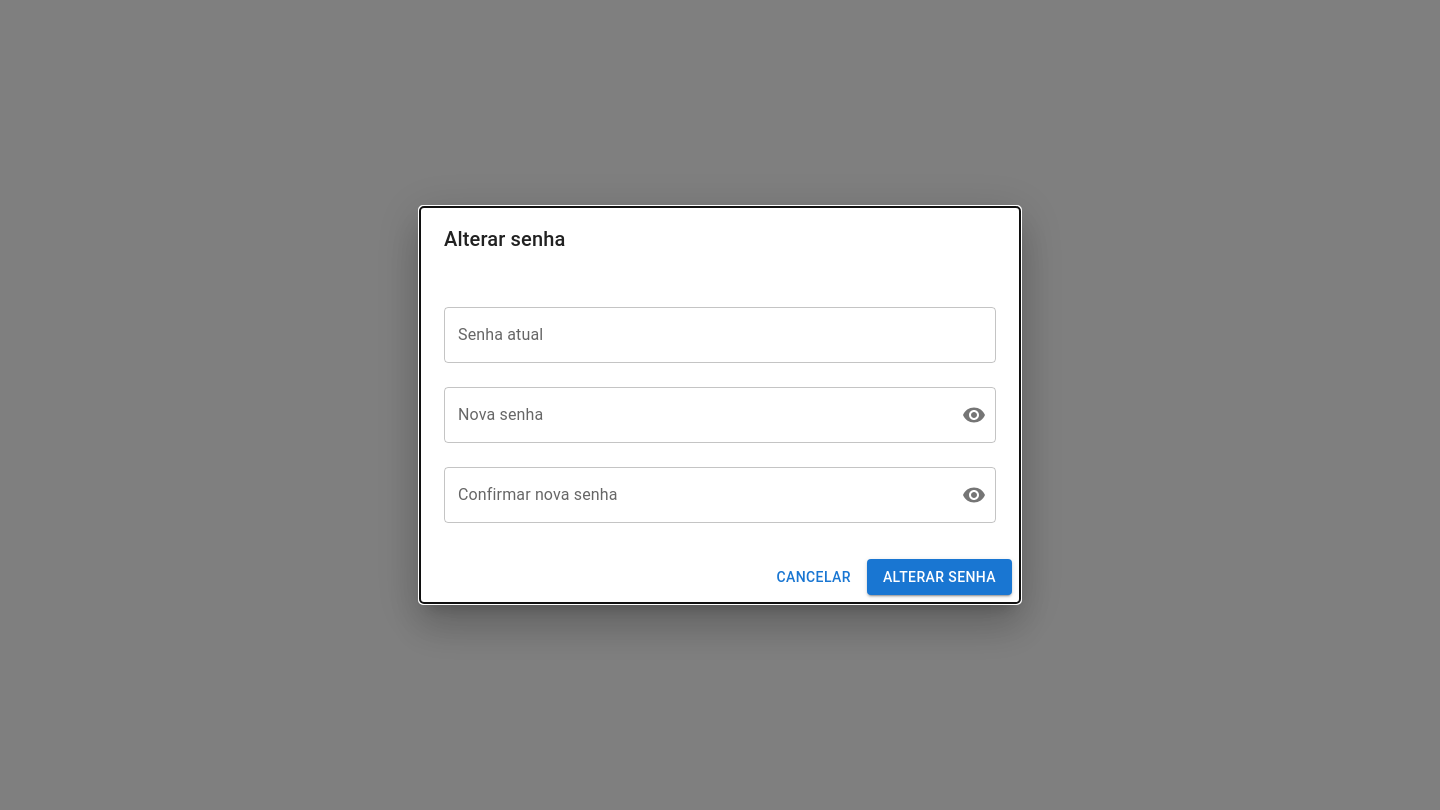
Test: AlterarSenhaDialog › shows generic error for non-400 failures
Type "oldpass" into the password field labelled "Senha atual" at point(720, 335), box [444,307,996,363]
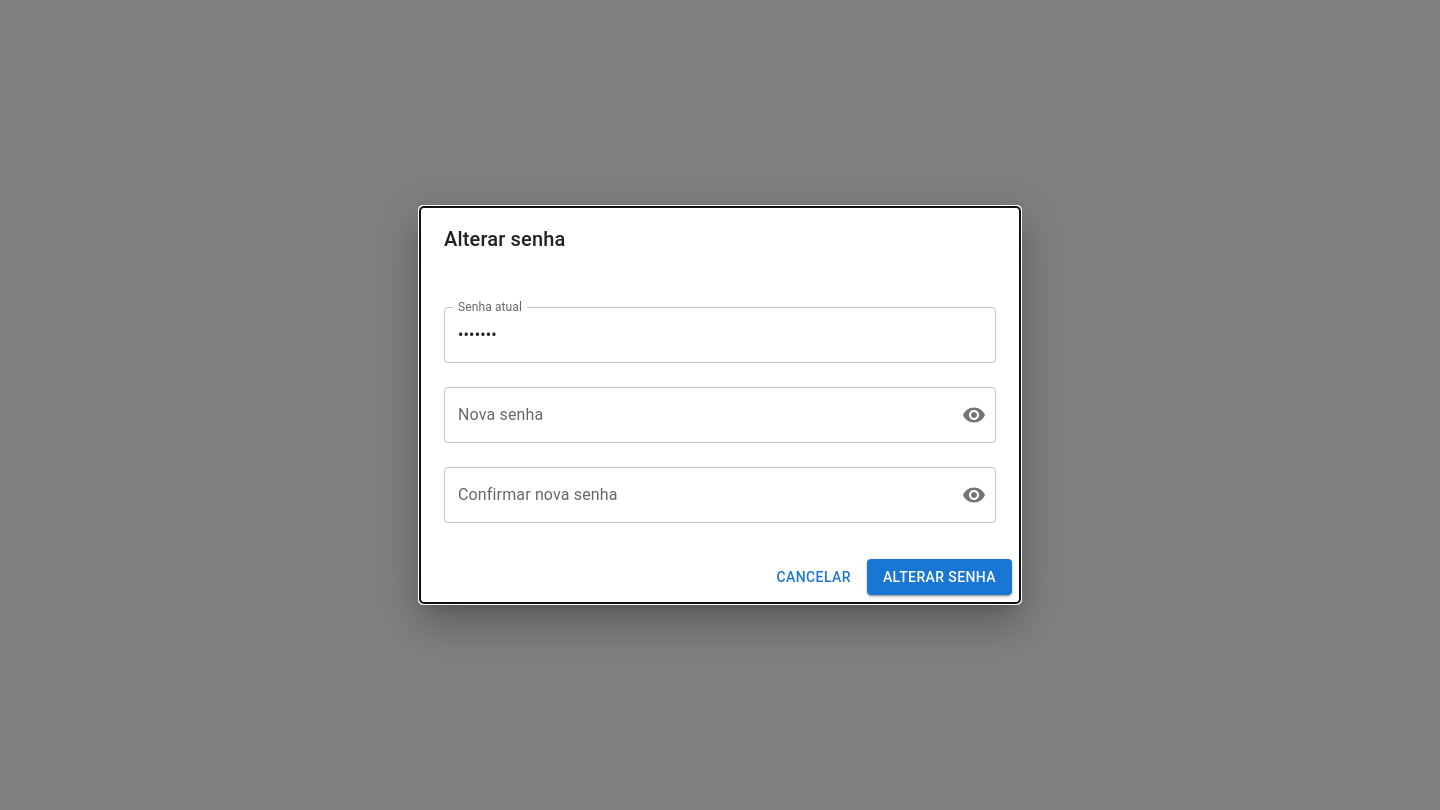
Type "secret1" into the password field labelled "Nova senha" at point(695, 415), box [444,387,946,443]
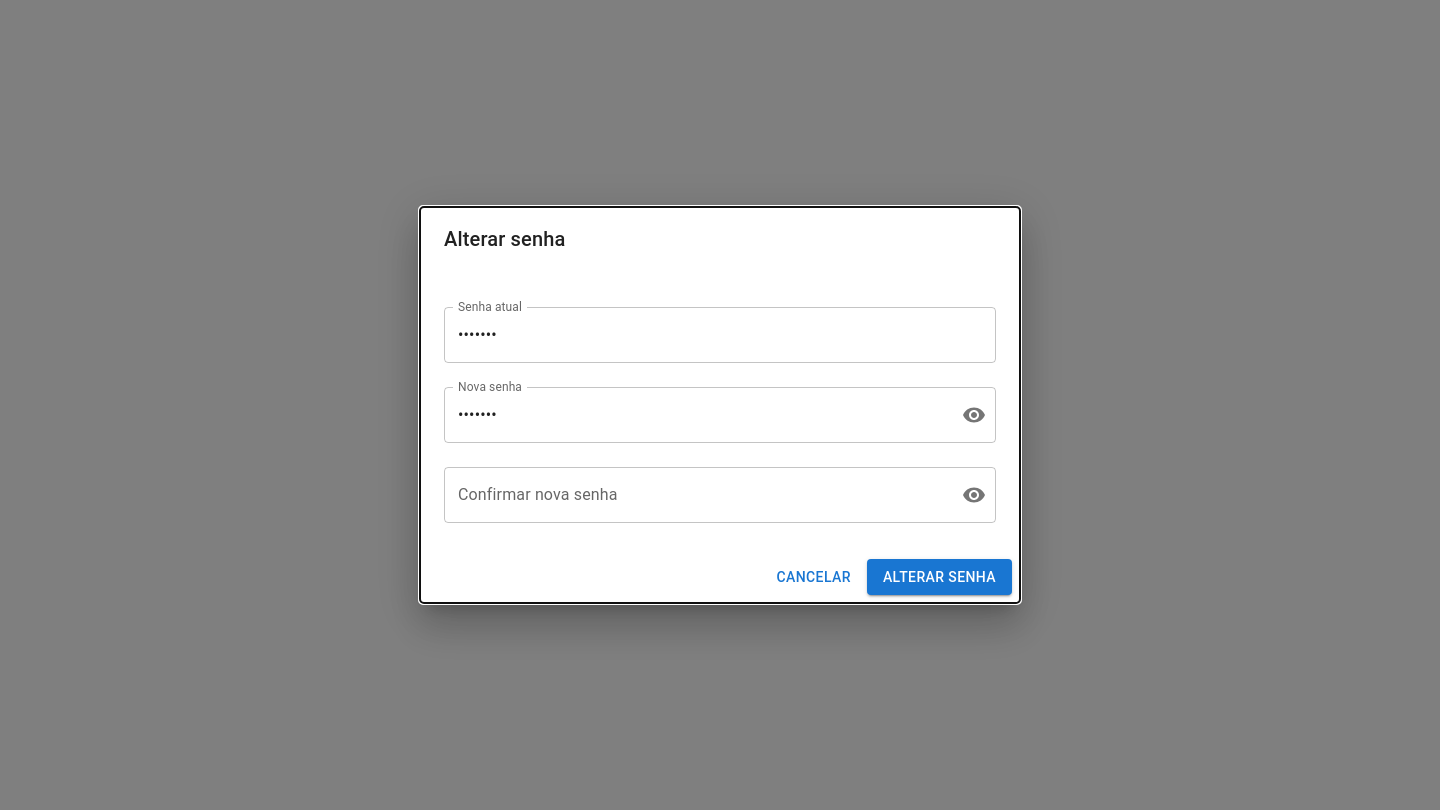
Type "secret1" into the password field labelled "Confirmar nova senha" at point(695, 495), box [444,467,946,523]
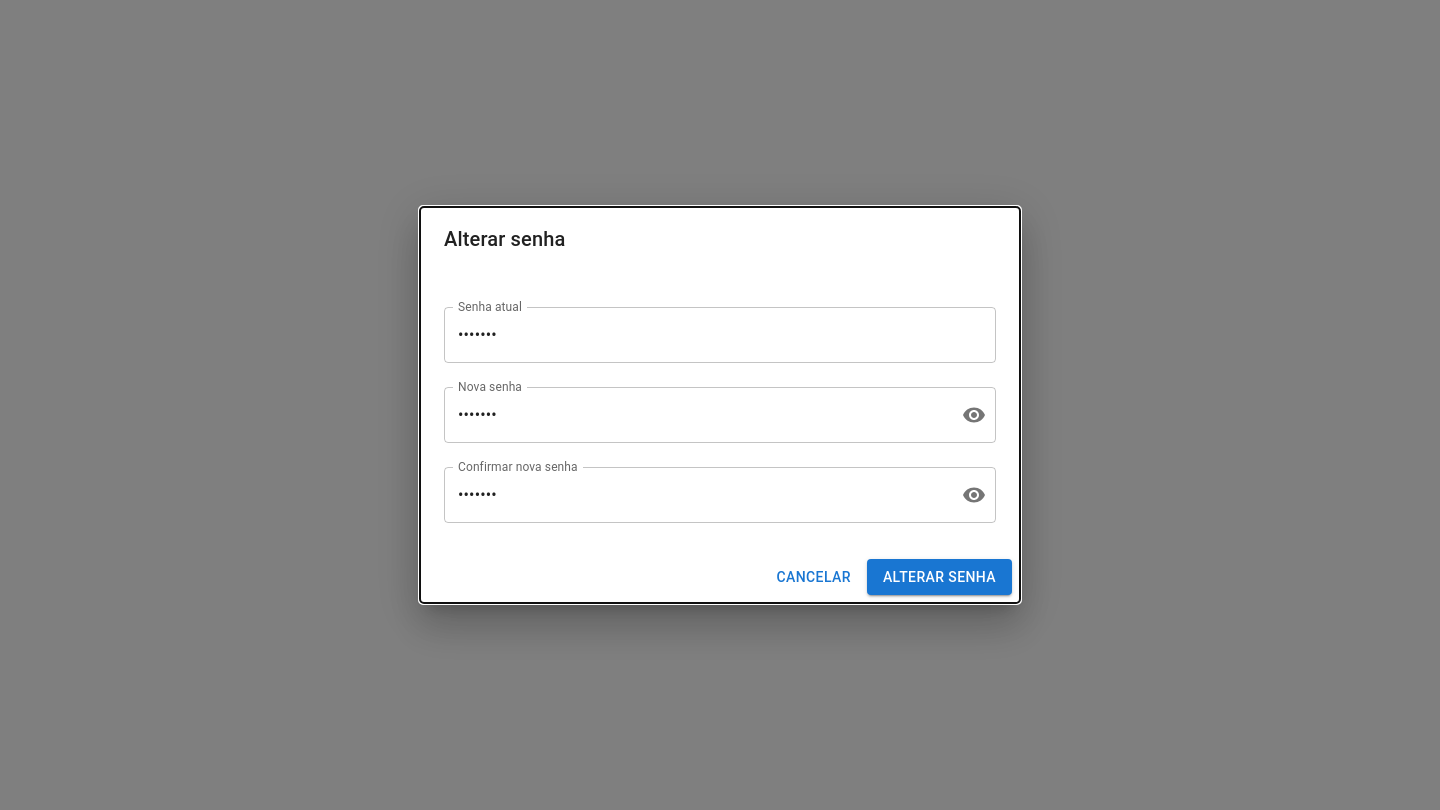
Click the button "Alterar senha" at point(939, 577), box [867,559,1012,595]
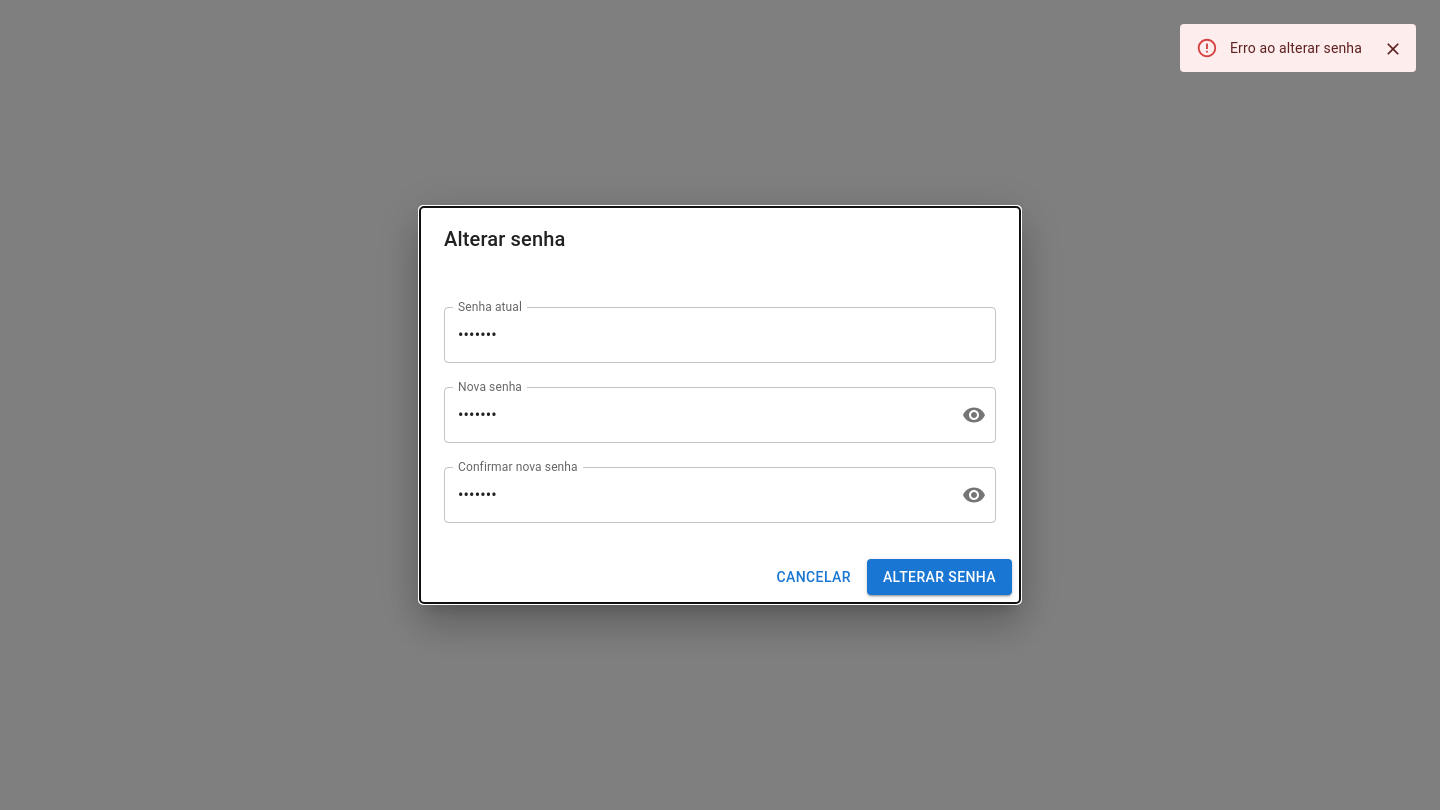
Expected: the text "Erro ao alterar senha" is shown, [1230,40,1362,56]
